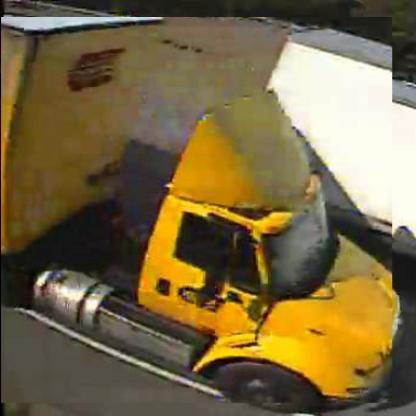container: (2, 18, 394, 405)
